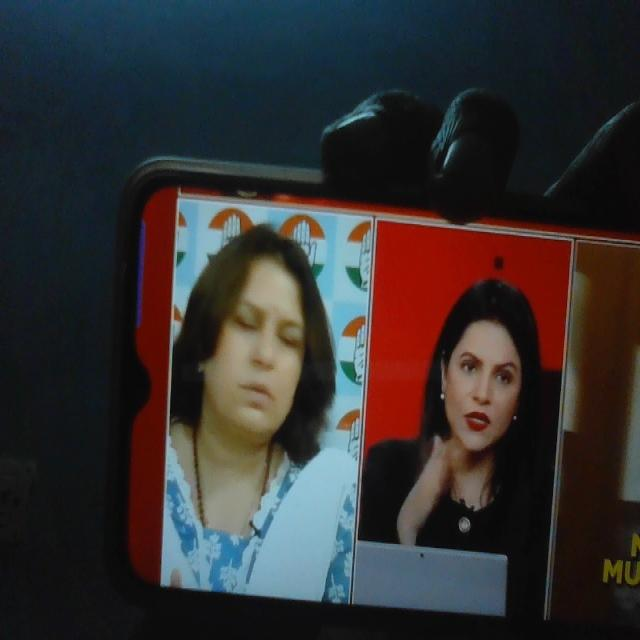fake: (198, 225, 314, 444), (433, 274, 535, 466)
